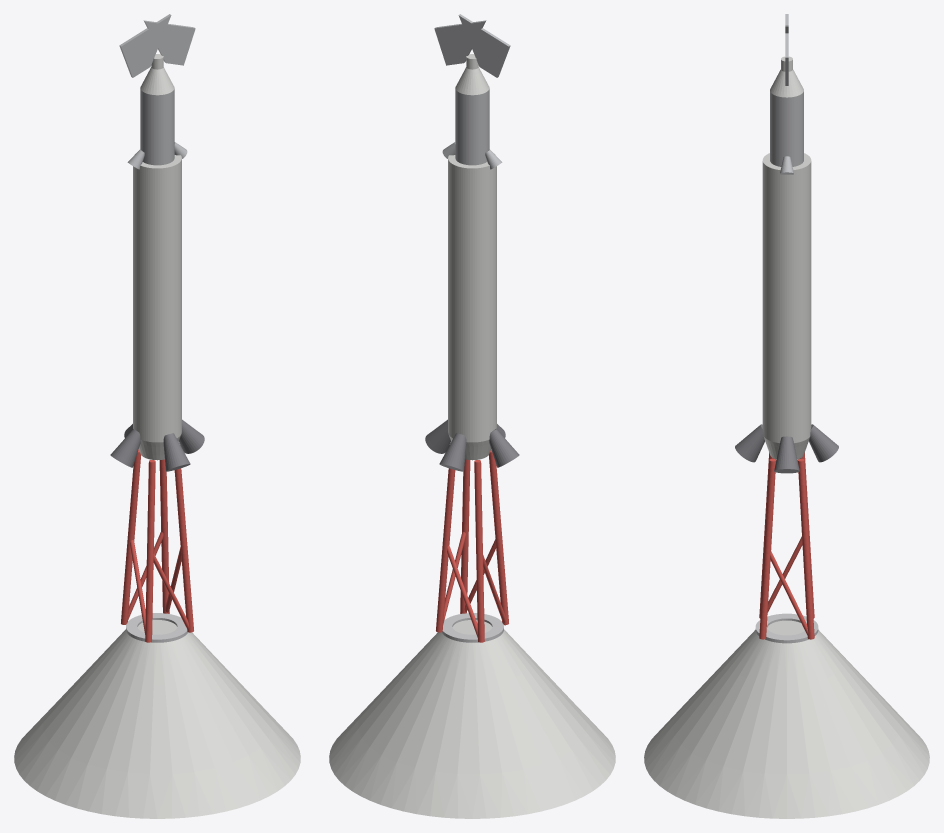
File: prop24_launch_escape_tower_xl.glb
3 renders of one model, left to right at view 1: azimuth 30°, elevation 25°; view 2: azimuth 150°, elevation 25°; view 3: azimuth 270°, elevation 25°, orthographic.
Parts seen in each view (by area): view 1: boost_cover, abort_motor, tower_truss, jettison_motor, abort_nozzles, canard_1, canard_2, docking_ring, nose; view 2: boost_cover, abort_motor, tower_truss, jettison_motor, abort_nozzles, canard_1, canard_2, docking_ring, nose; view 3: boost_cover, abort_motor, tower_truss, jettison_motor, abort_nozzles, docking_ring, nose.
Part boxes in pixels (x1,y1,x2,y2): boost_cover: [14, 620, 300, 818]; abort_motor: [133, 153, 181, 460]; tower_truss: [121, 449, 193, 642]; jettison_motor: [127, 89, 187, 169]; abort_nozzles: [110, 419, 204, 471]; canard_1: [119, 14, 171, 77]; canard_2: [143, 20, 195, 65]; docking_ring: [126, 613, 187, 642]; nose: [140, 54, 174, 95]; boost_cover: [329, 620, 615, 818]; abort_motor: [448, 153, 496, 460]; tower_truss: [436, 449, 508, 642]; jettison_motor: [442, 89, 502, 169]; abort_nozzles: [425, 419, 519, 471]; canard_1: [458, 14, 510, 77]; canard_2: [434, 20, 486, 65]; docking_ring: [442, 613, 503, 642]; nose: [455, 54, 489, 95]; boost_cover: [644, 620, 929, 818]; abort_motor: [762, 153, 811, 459]; tower_truss: [759, 452, 814, 639]; jettison_motor: [770, 91, 803, 174]; abort_nozzles: [735, 424, 838, 473]; docking_ring: [755, 613, 818, 643]; nose: [770, 56, 803, 97].
Size of the model in its own units: 5 by 14.24 by 5.
